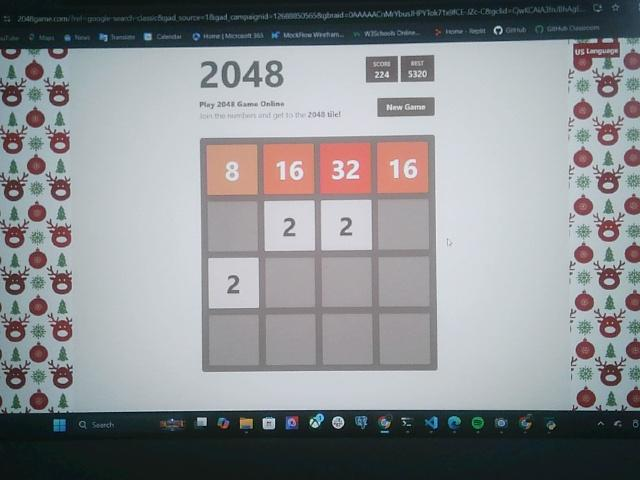board: (201, 137, 435, 370)
tile: (321, 142, 372, 194), (321, 200, 372, 251), (264, 143, 314, 195), (378, 142, 428, 194), (209, 257, 259, 308), (208, 144, 258, 194), (265, 201, 314, 251)
